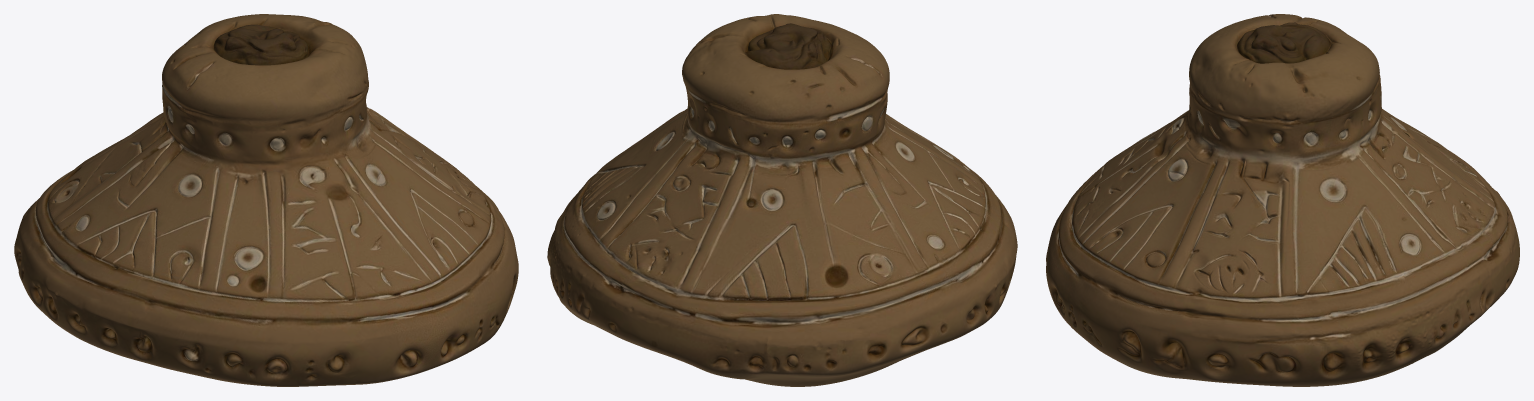
File: volante-de-uso.glb
3 renders of one model, left to right at view 1: azimuth 30°, elevation 25°; view 2: azimuth 150°, elevation 25°; view 3: azimuth 270°, elevation 25°, orthographic. The views are drawn at different scales.
Parts seen in each view (by area): view 1: tripo_node_79b703fc-68dd-4465-b29b-0ba45db9b882; view 2: tripo_node_79b703fc-68dd-4465-b29b-0ba45db9b882; view 3: tripo_node_79b703fc-68dd-4465-b29b-0ba45db9b882.
Boxes of the visible parts, x1=… form: tripo_node_79b703fc-68dd-4465-b29b-0ba45db9b882: x1=14, y1=14, x2=518, y2=386; tripo_node_79b703fc-68dd-4465-b29b-0ba45db9b882: x1=547, y1=14, x2=1017, y2=386; tripo_node_79b703fc-68dd-4465-b29b-0ba45db9b882: x1=1046, y1=14, x2=1519, y2=386.
Bounding box in the file's own units: 0.9786 × 0.6217 × 0.9794.
Materials: 1 (1 with a texture image).
